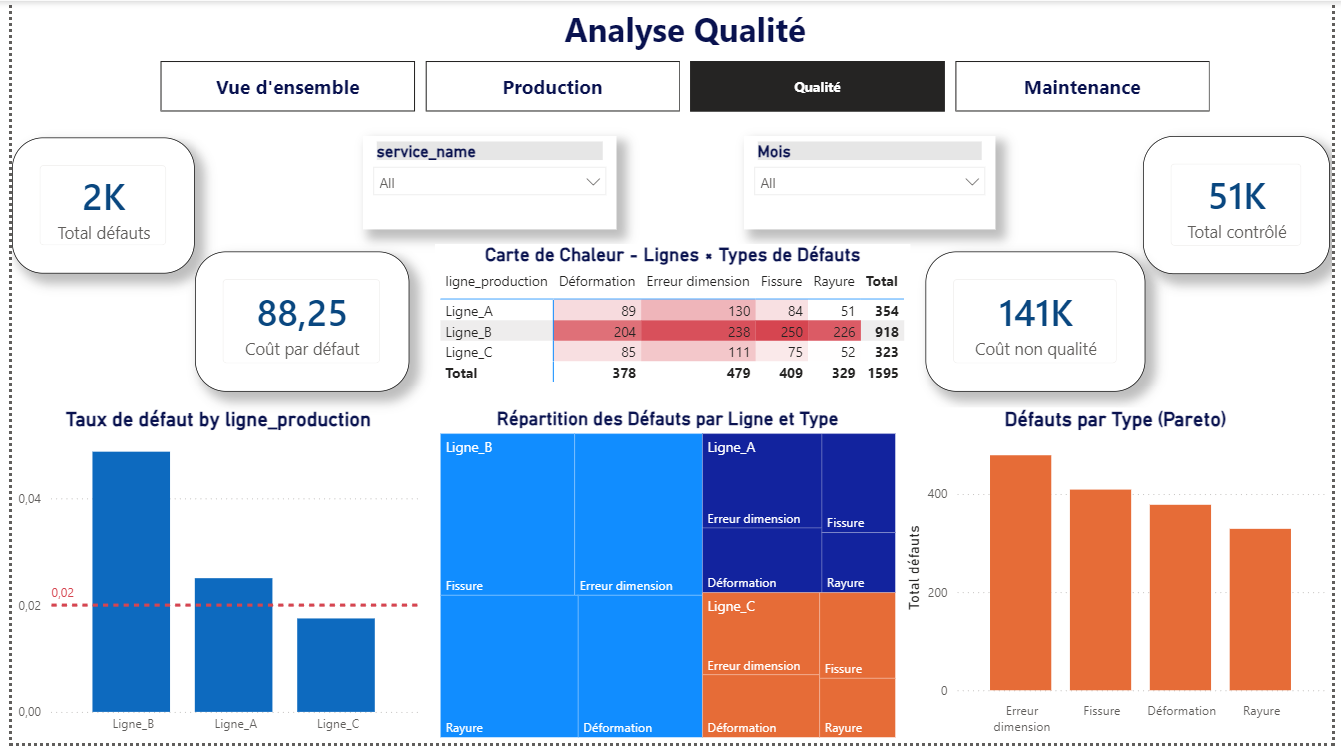

The page's visual inventory and layout, read from the dashboard file:
{"tool":"powerbi","page":{"name":"Qualité","canvas":[1280,720],"ordinal":2},"visuals":[{"type":"clusteredColumnChart","fields":{"Category":["fact_qualite.ligne_production"],"Y":["INDICATEURS QUALITÉ.Taux de défaut"]},"box":[0,395,400.6,325],"z":0},{"type":"textbox","box":[28.3,0,1251,83.2],"z":1000},{"type":"pageNavigator","box":[143.6,58.6,1020.5,49.1],"z":2000},{"type":"slicer","fields":{"Values":["dim_service.service_name"]},"box":[340.2,130.4,245.7,90.7],"z":3000},{"type":"slicer","fields":{"Values":["Dim_date.Mois"]},"box":[710.6,130.4,243.8,90.7],"z":4000},{"type":"cardVisual","fields":{"Data":["INDICATEURS QUALITÉ.Total défauts"]},"box":[0,132.3,177.6,132.3],"z":5000},{"type":"cardVisual","fields":{"Data":["INDICATEURS QUALITÉ.Total contrôlé"]},"box":[1098,130.4,181.4,134.2],"z":6000},{"type":"cardVisual","fields":{"Data":["INDICATEURS QUALITÉ.Coût non qualité"]},"box":[886.3,243.8,213.5,136.1],"z":7000},{"type":"cardVisual","fields":{"Data":["INDICATEURS QUALITÉ.Coût par défaut"]},"box":[177.6,243.8,207.9,136.1],"z":8000},{"type":"clusteredColumnChart","title":"Défauts par Type (Pareto)","fields":{"Category":["fact_qualite.type_defaut"],"Y":["INDICATEURS QUALITÉ.Total défauts"]},"box":[861.7,395,417.6,325],"z":9000},{"type":"pivotTable","title":"Carte de Chaleur - Lignes × Types de Défauts","fields":{"Columns":["fact_qualite.type_defaut"],"Rows":["fact_qualite.ligne_production"],"Values":["Sum(fact_qualite.nb_defauts)"]},"box":[410.1,236.2,461.1,149.3],"z":10000},{"type":"treemap","title":"Répartition des Défauts par Ligne et Type","fields":{"Details":["fact_qualite.type_defaut"],"Group":["fact_qualite.ligne_production"],"Values":["INDICATEURS QUALITÉ.Total défauts"]},"box":[410.1,395,451.7,325],"z":11000}]}

Visuals, with their boxes in screenshot pixels (x1, y1, x2, y2), scaled from the page's 1280x720 canvas onto the 1341x748 screenshot:
clusteredColumnChart - fact_qualite.ligne_production x INDICATEURS QUALITÉ.Taux de défaut: {"left": 0, "top": 410, "right": 420, "bottom": 747}
textbox: {"left": 30, "top": 0, "right": 1340, "bottom": 86}
pageNavigator: {"left": 150, "top": 61, "right": 1220, "bottom": 112}
slicer - dim_service.service_name: {"left": 356, "top": 135, "right": 614, "bottom": 230}
slicer - Dim_date.Mois: {"left": 744, "top": 135, "right": 1000, "bottom": 230}
cardVisual - INDICATEURS QUALITÉ.Total défauts: {"left": 0, "top": 137, "right": 186, "bottom": 275}
cardVisual - INDICATEURS QUALITÉ.Total contrôlé: {"left": 1150, "top": 135, "right": 1340, "bottom": 275}
cardVisual - INDICATEURS QUALITÉ.Coût non qualité: {"left": 929, "top": 253, "right": 1152, "bottom": 395}
cardVisual - INDICATEURS QUALITÉ.Coût par défaut: {"left": 186, "top": 253, "right": 404, "bottom": 395}
"Défauts par Type (Pareto)" clusteredColumnChart: {"left": 903, "top": 410, "right": 1340, "bottom": 747}
"Carte de Chaleur - Lignes × Types de Défauts" pivotTable: {"left": 430, "top": 245, "right": 913, "bottom": 400}
"Répartition des Défauts par Ligne et Type" treemap: {"left": 430, "top": 410, "right": 903, "bottom": 747}
